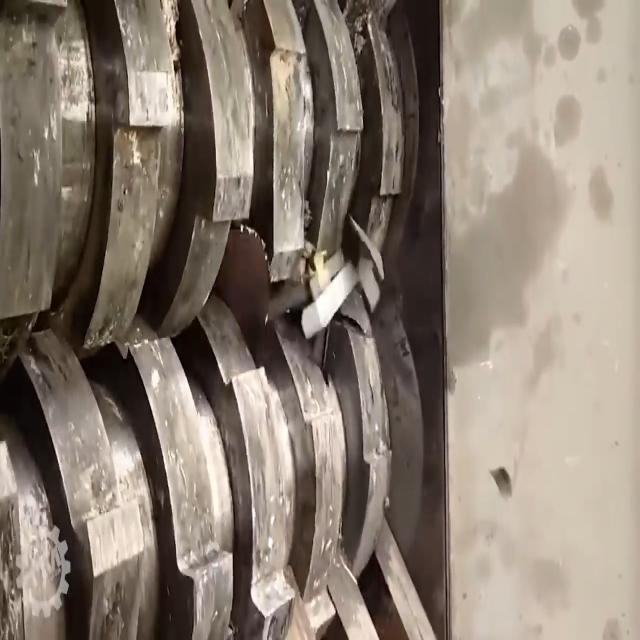Broyeur: (0, 0, 486, 640)
